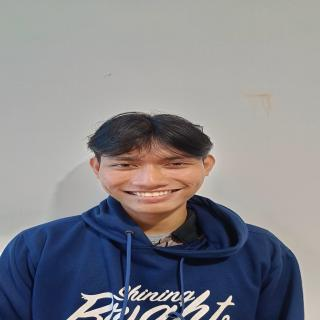Senang: (97, 135, 212, 218)
